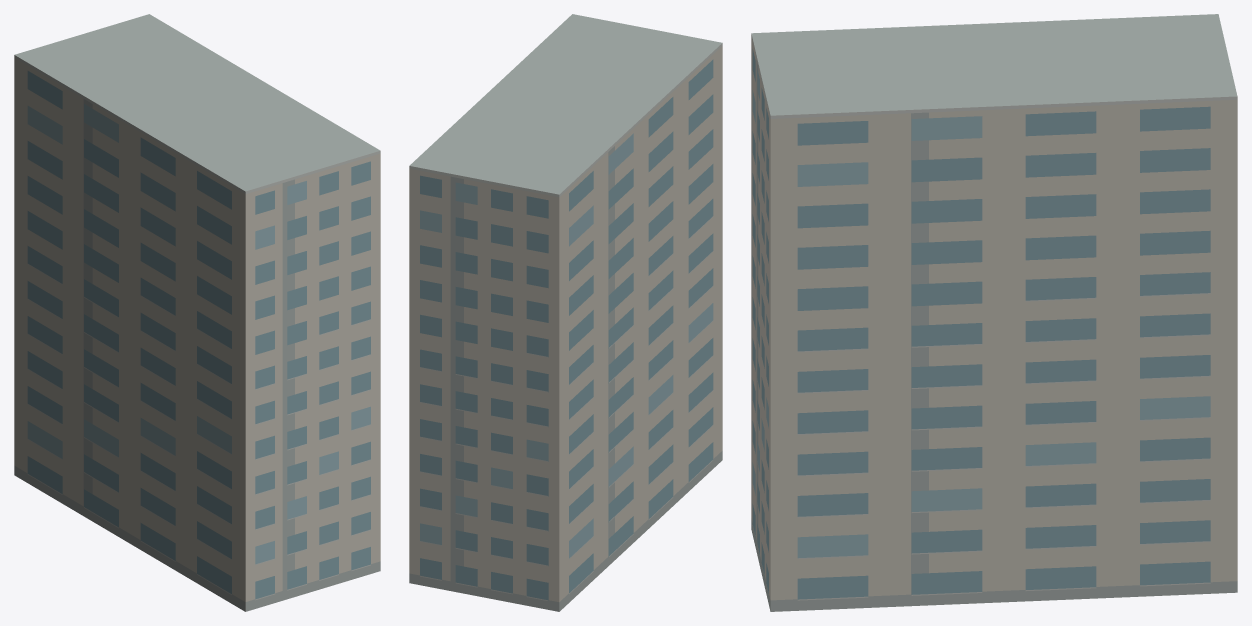
File: residential-8c20a8fa-28ed-4977-9104-ddd2dcd22804.glb
3 views of the same model, side by side, from view 1: azimuth 30°, elevation 25°; view 2: azimuth 150°, elevation 25°; view 3: azimuth 270°, elevation 25° (orthographic). The views are drawn at different scales.
Visible parts, largest first — view 1: residential-8c20a8fa-28ed-4977-9104-ddd2dcd22804.tmp; view 2: residential-8c20a8fa-28ed-4977-9104-ddd2dcd22804.tmp; view 3: residential-8c20a8fa-28ed-4977-9104-ddd2dcd22804.tmp.
Boxes of the visible parts, bbox=[...] form: residential-8c20a8fa-28ed-4977-9104-ddd2dcd22804.tmp: bbox=[14, 14, 380, 611]; residential-8c20a8fa-28ed-4977-9104-ddd2dcd22804.tmp: bbox=[409, 14, 722, 611]; residential-8c20a8fa-28ed-4977-9104-ddd2dcd22804.tmp: bbox=[751, 14, 1237, 611].
Size of the model in its own units: 15.83 by 36 by 31.97.
